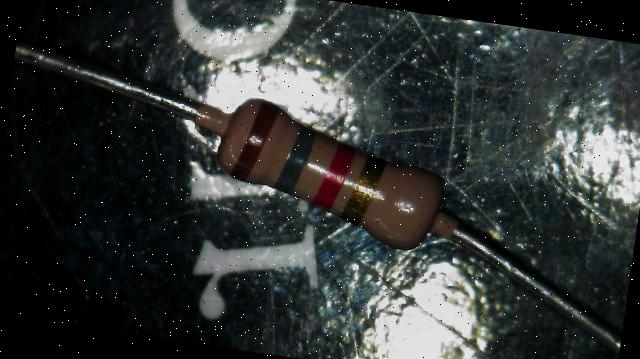brown: (230, 96, 278, 184)
gold: (346, 153, 385, 226)
grey: (275, 123, 317, 196)
red: (318, 142, 352, 212)
resistor: (189, 67, 467, 276)
